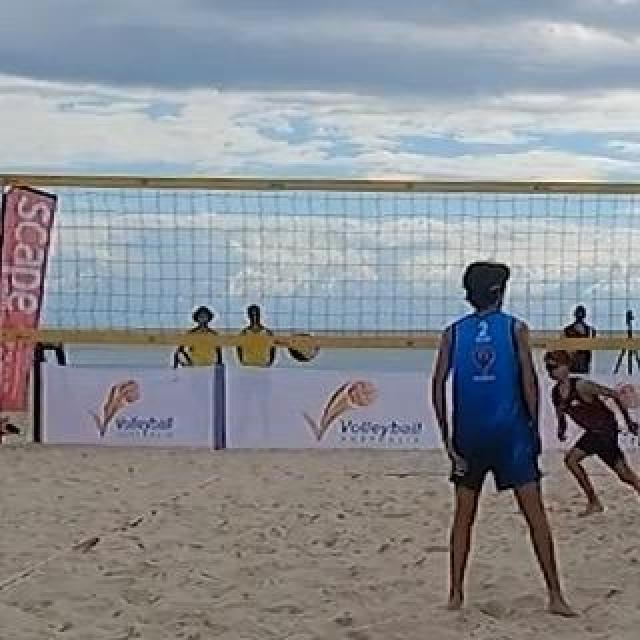volleyball: (289, 331, 321, 363)
